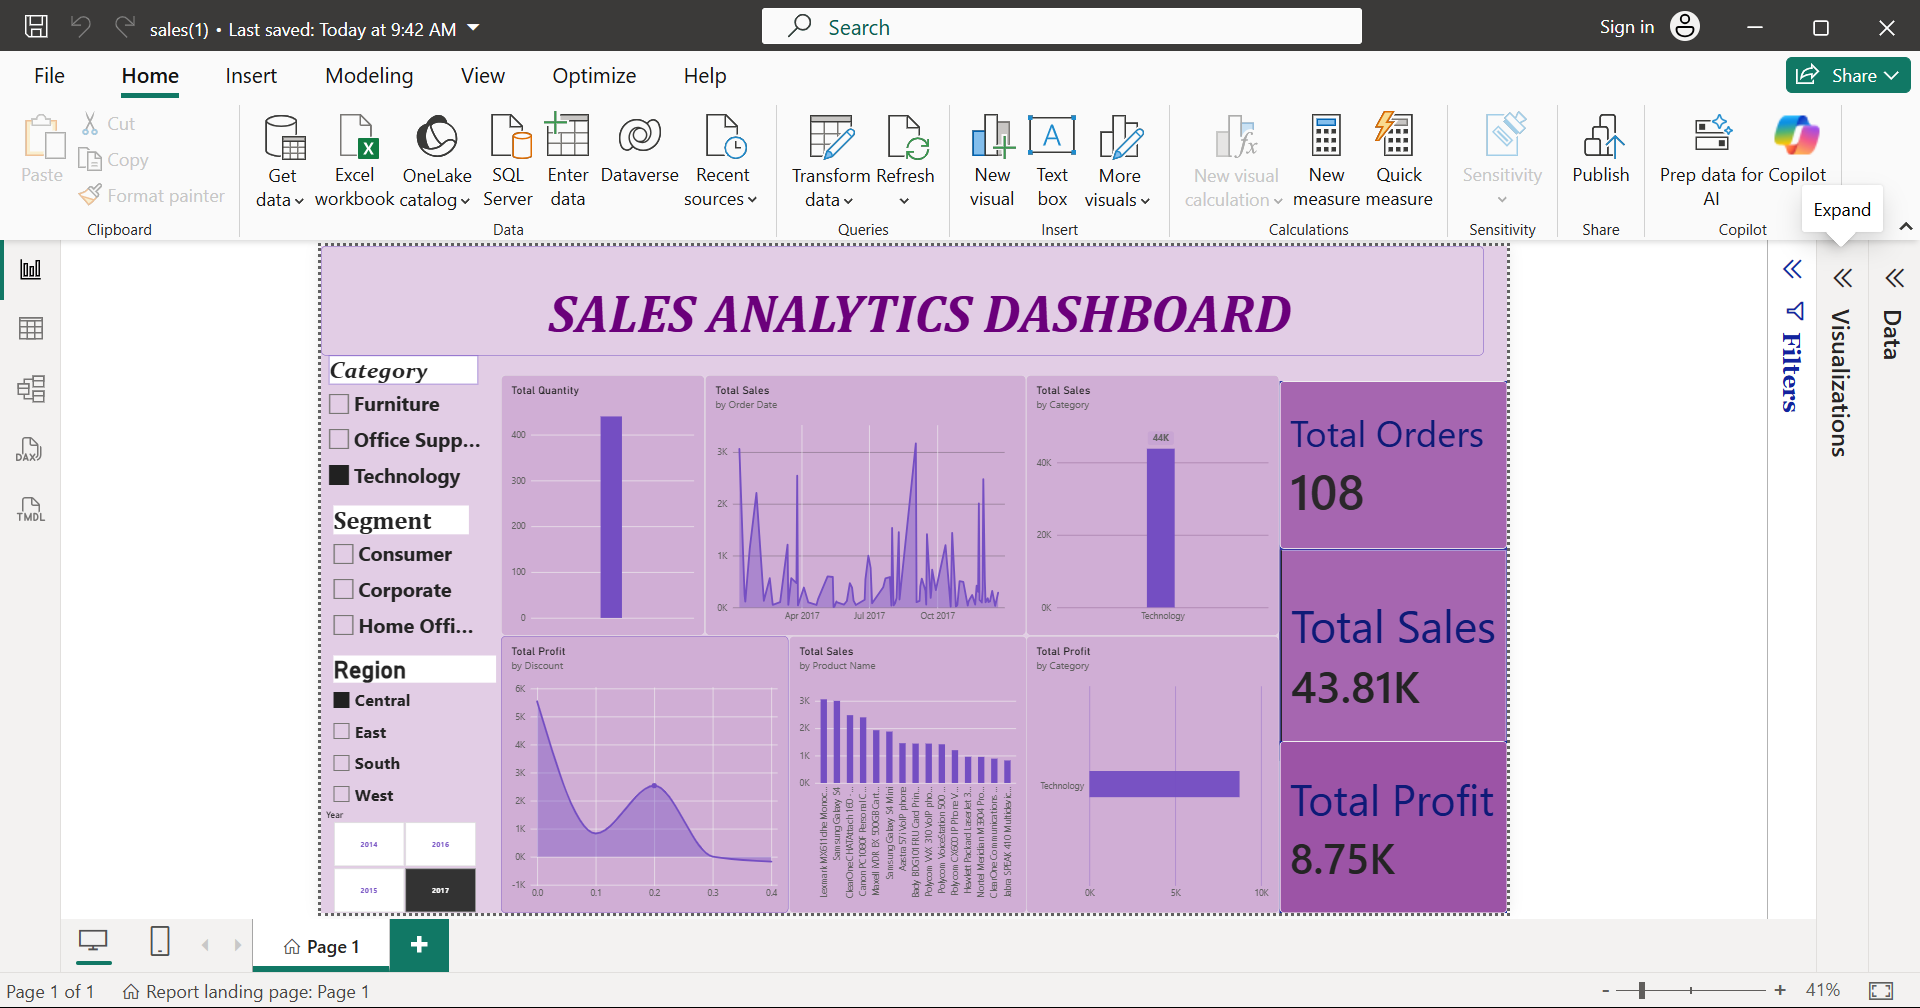

The dashboard page shown, as its layout file describes it:
{"tool":"powerbi","page":{"name":"Page 1","canvas":[1920,1080],"ordinal":0},"visuals":[{"type":"cardVisual","fields":{"Data":["Superstore.Total Sales"]},"box":[1552,490.6,369.2,342.5],"z":0},{"type":"cardVisual","fields":{"Data":["Superstore.Total Profit"]},"box":[1552,801.5,369.2,279.3],"z":1000},{"type":"clusteredColumnChart","fields":{"Y":["Superstore.Total Quantity"]},"box":[291.7,210,330,421.7],"z":2000},{"type":"cardVisual","fields":{"Data":["Superstore.Total Orders"]},"box":[1552,218.6,369.2,272],"z":3000},{"type":"clusteredColumnChart","fields":{"Category":["Superstore.Category"],"Y":["Superstore.Total Sales"]},"box":[1141.7,210,410,421.7],"z":4000},{"type":"clusteredBarChart","fields":{"Category":["Superstore.Category"],"Y":["Superstore.Total Profit"]},"box":[1141.7,631.7,410,448.3],"z":5000},{"type":"lineChart","fields":{"Category":["Superstore.Order Date"],"Y":["Superstore.Total Sales"]},"box":[621.7,210,520,421.7],"z":6000},{"type":"clusteredColumnChart","fields":{"Category":["Superstore.Product Name"],"Y":["Superstore.Total Sales"]},"box":[756.7,631.7,385,448.3],"z":7000},{"type":"stackedAreaChart","fields":{"Category":["Superstore.Discount"],"Y":["Superstore.Total Profit"]},"box":[291.7,631.7,465,448.3],"z":8000},{"type":"slicer","fields":{"Values":["Superstore.Region"]},"box":[12.1,663.1,279.3,250.2],"z":9000},{"type":"slicer","fields":{"Values":["Superstore.Category"]},"box":[4.9,177.3,257.5,242.9],"z":10000},{"type":"slicer","fields":{"Values":["Superstore.Segment"]},"box":[12.1,420.2,235.6,242.9],"z":11000},{"type":"slicer","fields":{"Values":["Superstore.Order Date.Variation.Date Hierarchy.Year"]},"box":[0,913.2,269.6,167.6],"z":12000},{"type":"textbox","box":[0,0,1882.4,177.3],"z":13000}]}

Visuals, with their boxes on the page's 1920x1080 design canvas (x1, y1, x2, y2). These are canvas units, not pixel positions in the 1920x1008 screenshot, which may show the page scaled, cropped or inside an application window:
cardVisual - Superstore.Total Sales: (1552, 491, 1921, 833)
cardVisual - Superstore.Total Profit: (1552, 802, 1921, 1081)
clusteredColumnChart - Superstore.Total Quantity: (292, 210, 622, 632)
cardVisual - Superstore.Total Orders: (1552, 219, 1921, 491)
clusteredColumnChart - Superstore.Category x Superstore.Total Sales: (1142, 210, 1552, 632)
clusteredBarChart - Superstore.Category x Superstore.Total Profit: (1142, 632, 1552, 1080)
lineChart - Superstore.Order Date x Superstore.Total Sales: (622, 210, 1142, 632)
clusteredColumnChart - Superstore.Product Name x Superstore.Total Sales: (757, 632, 1142, 1080)
stackedAreaChart - Superstore.Discount x Superstore.Total Profit: (292, 632, 757, 1080)
slicer - Superstore.Region: (12, 663, 291, 913)
slicer - Superstore.Category: (5, 177, 262, 420)
slicer - Superstore.Segment: (12, 420, 248, 663)
slicer - Superstore.Order Date.Variation.Date Hierarchy.Year: (0, 913, 270, 1081)
textbox: (0, 0, 1882, 177)
